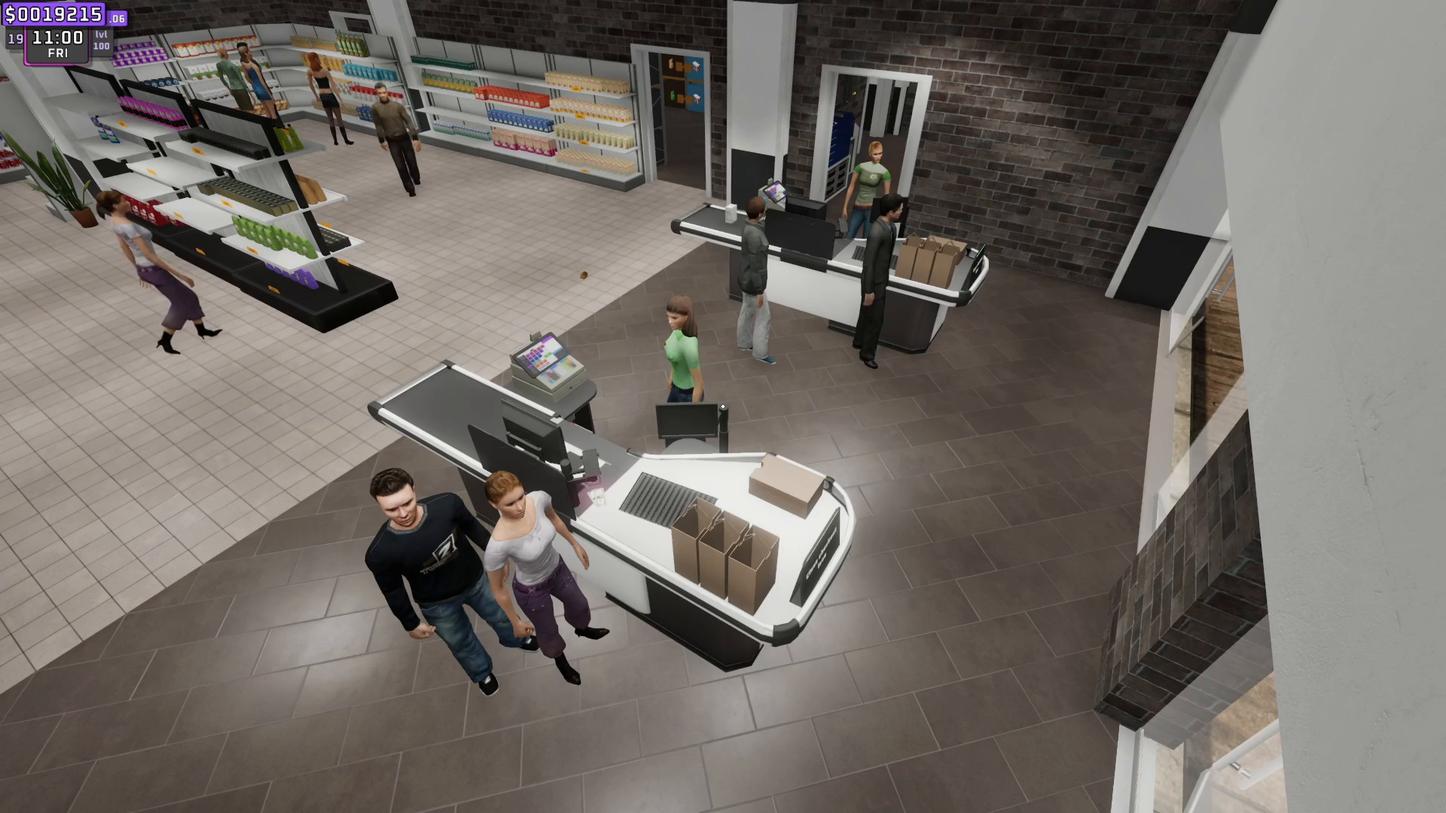Client: (367, 467, 516, 684), (487, 467, 593, 693), (728, 183, 786, 357), (867, 194, 910, 383)
Employee: (658, 284, 708, 404), (844, 136, 891, 231)
